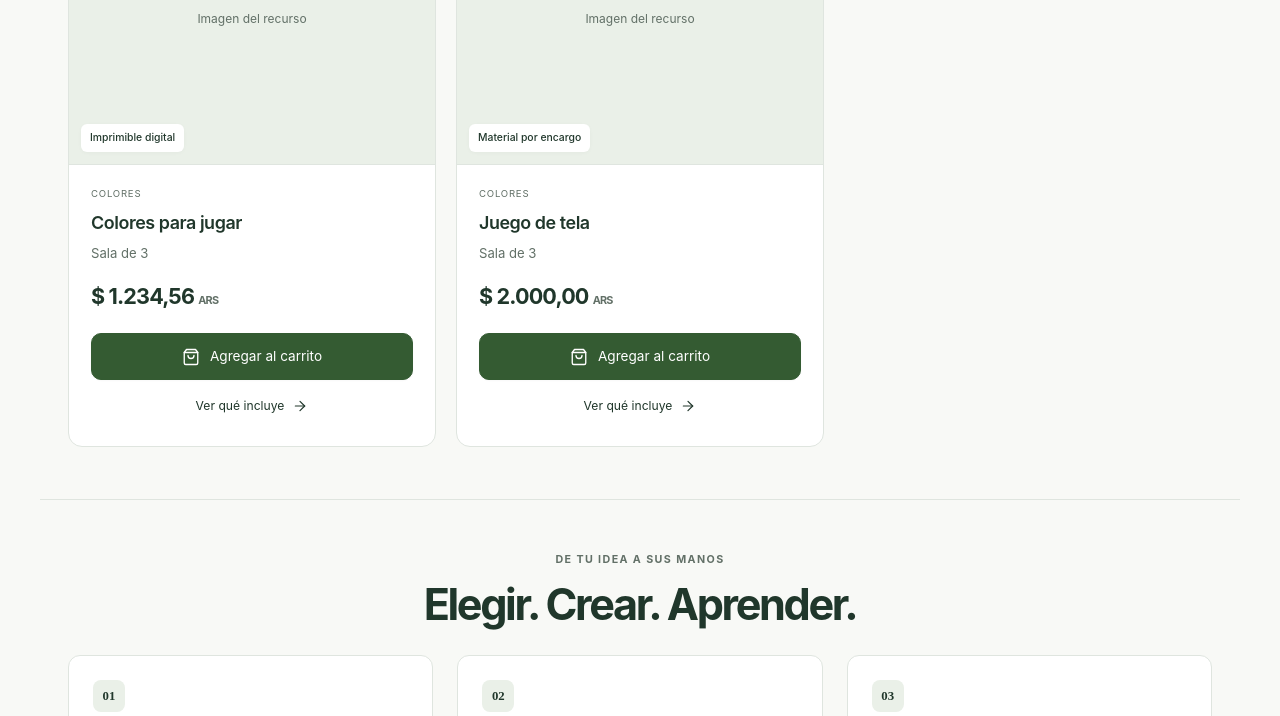
Scenario: cached storefront navigation › rolls back a failed cart write and does not repeat the POST
(page scrolled)
Click the button "Agregar al carrito" below "$ 1.234,56" at (252, 357), box top-left (91, 333), bottom-right (413, 380)
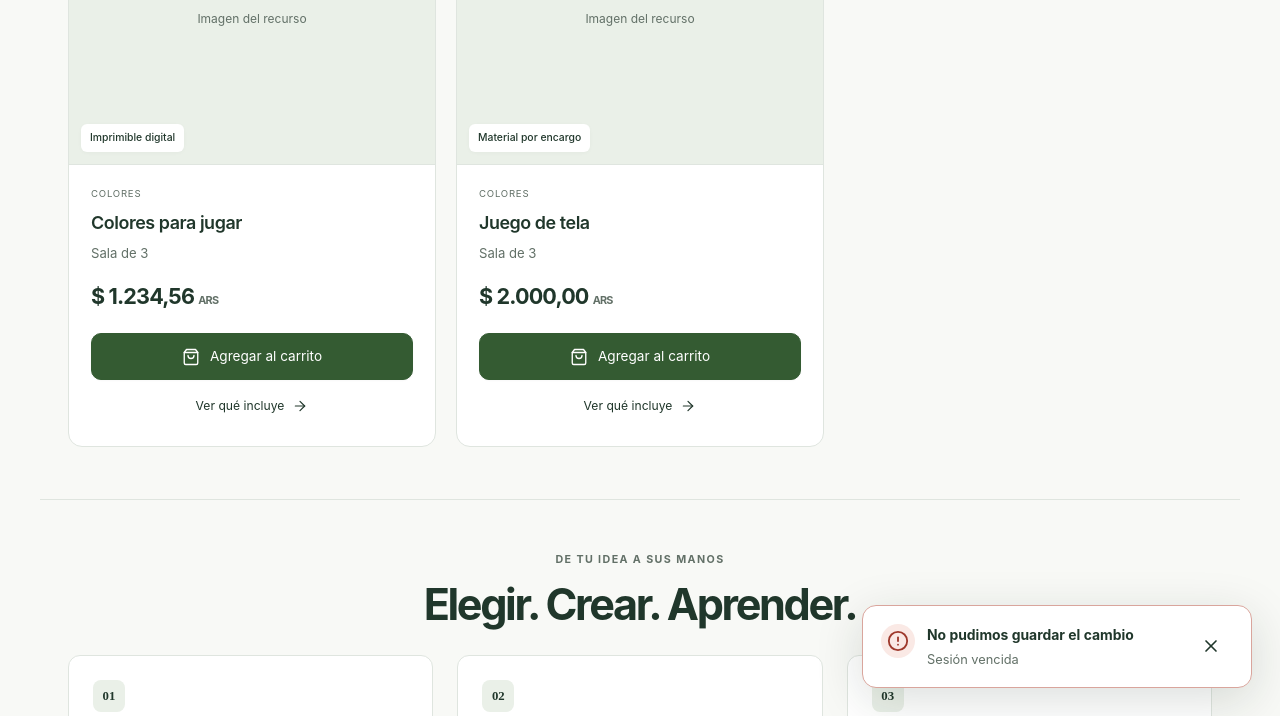
Expected: the message "No pudimos guardar el cambio Sesión vencida" is shown, top-left (862, 605), bottom-right (1252, 688)
